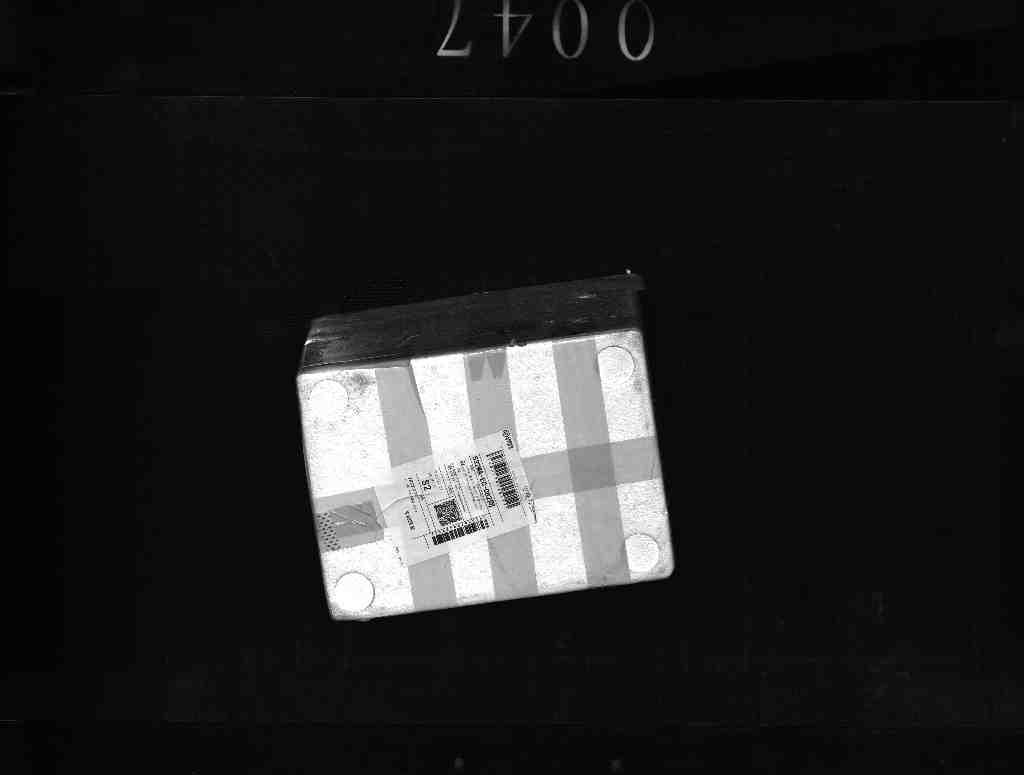box: (277, 273, 685, 622)
